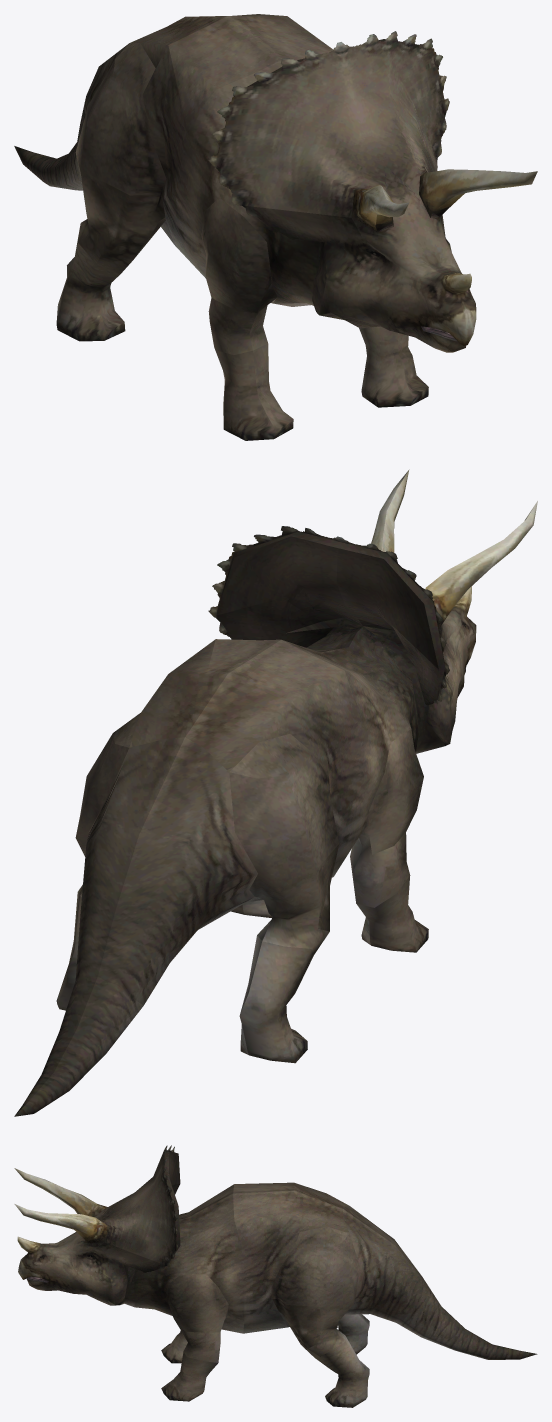
Rendered from trike.obj.
3 renders of one model, top to bottom at view 1: azimuth 30°, elevation 25°; view 2: azimuth 150°, elevation 25°; view 3: azimuth 270°, elevation 25°, orthographic. The views are drawn at different scales.
Parts seen in each view (by area): view 1: trike; view 2: trike; view 3: trike.
Part boxes in pixels (x1,y1,x2,y2): trike: [14, 14, 537, 440]; trike: [14, 469, 537, 1116]; trike: [14, 1145, 537, 1407].
Size of the model in its own units: 2.92 by 4.31 by 9.48.
1 material, 1 textured.
